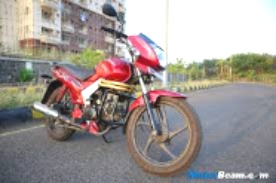Vehicle: (30, 2, 204, 175)
